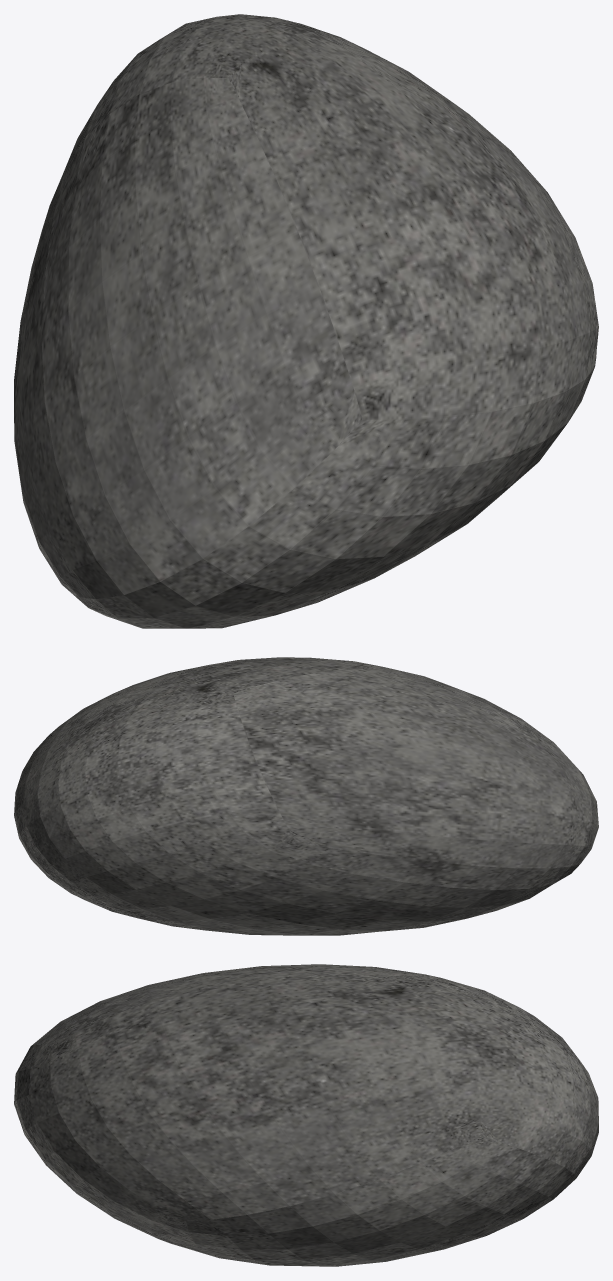
The model's file is Rock1.fbx.
3 views of the same model, one above another, from view 1: azimuth 30°, elevation 25°; view 2: azimuth 150°, elevation 25°; view 3: azimuth 270°, elevation 25° (orthographic). The views are drawn at different scales.
Parts seen in each view (by area): view 1: Rock1; view 2: Rock1; view 3: Rock1.
Boxes of the visible parts, <box> form: Rock1: <box>14,14,598,628</box>; Rock1: <box>14,657,598,935</box>; Rock1: <box>14,964,598,1266</box>.
Size of the model in its own units: 17.96 by 10.35 by 20.23.
1 material, 1 textured.
